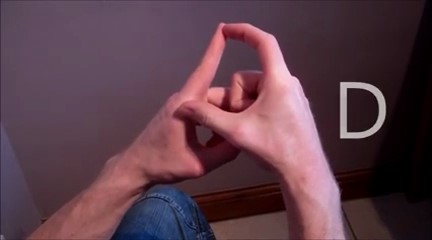D: (155, 14, 320, 181)
